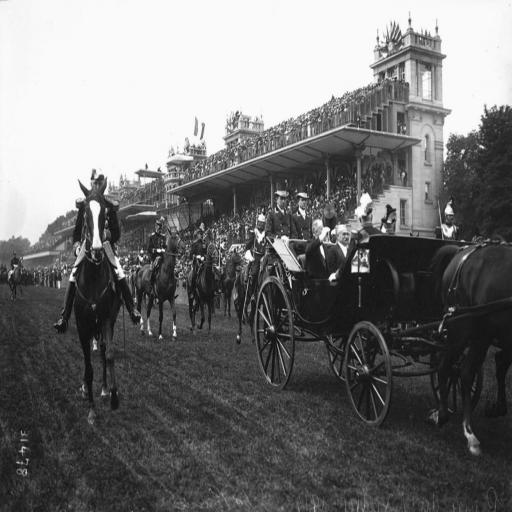horse: (427, 240, 511, 460), (71, 177, 123, 429), (133, 228, 186, 342), (183, 236, 220, 336), (212, 245, 246, 323), (7, 255, 26, 303)
